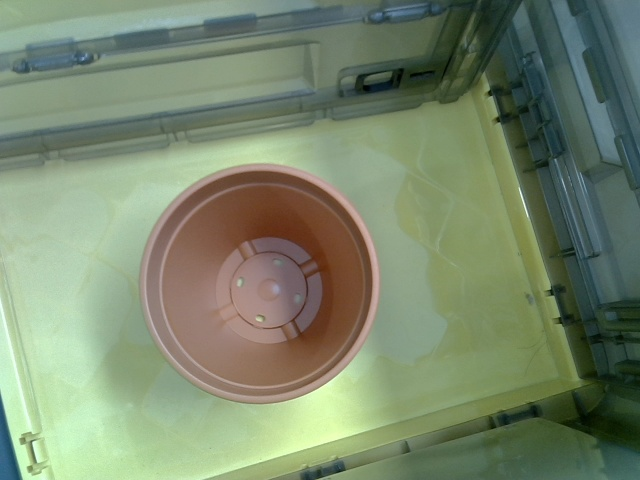화분: (142, 164, 378, 404)
